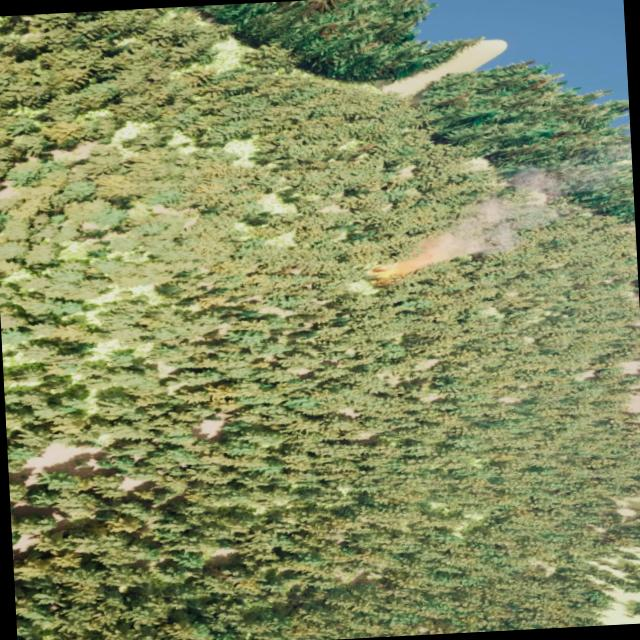fire: (368, 263, 400, 284)
smoke: (385, 166, 572, 274)
